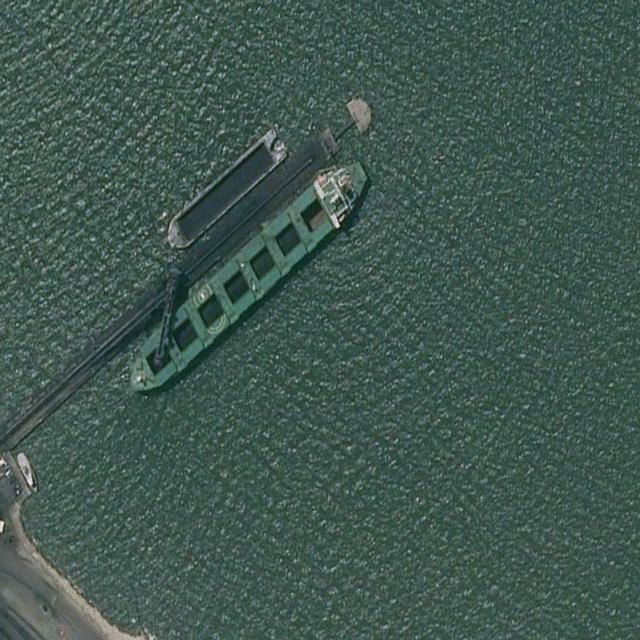Cargo: (117, 145, 377, 411)
Other Ship: (160, 122, 290, 257)
